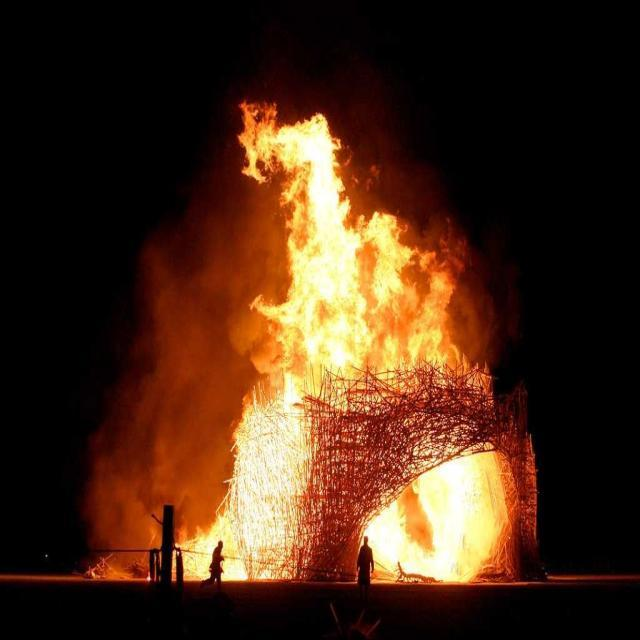Fire: (290, 210, 384, 393), (388, 214, 453, 366), (244, 97, 328, 198), (243, 407, 296, 550), (372, 520, 462, 579), (466, 511, 510, 582), (443, 449, 506, 495), (401, 486, 441, 518)
